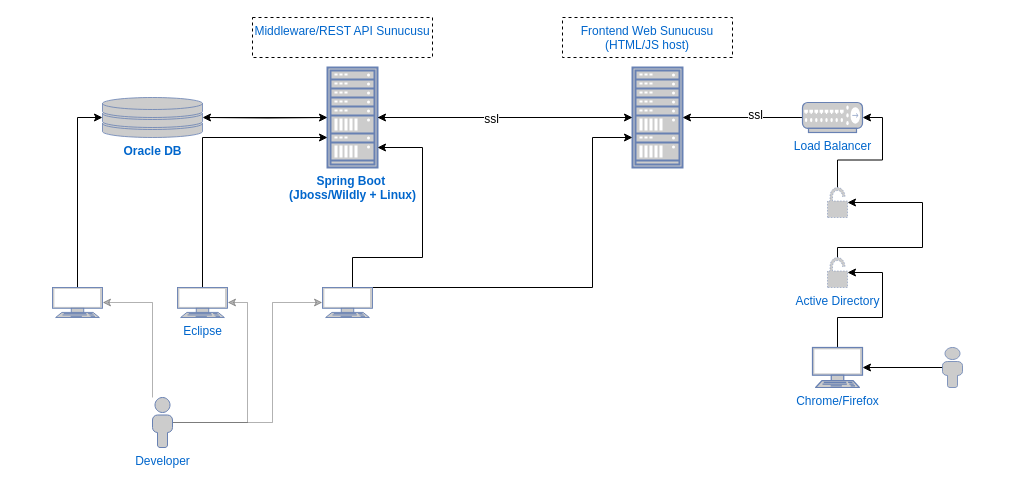
Image size: 1031x486. Some labels were removed from this diagram. Here are the shapes that lost their labels. From the top down, the centre of each, then its label:
point 657,117: Angular JS (Jboss/Wildly + Linux)
point 837,202: Asist Yetkilendirme Ekranı
point 77,302: PLSQL Developer IDE
point 347,302: Visual Studio Code (nodeJS- ilgili pluginler)
point 952,367: Anadolubank Personeli
